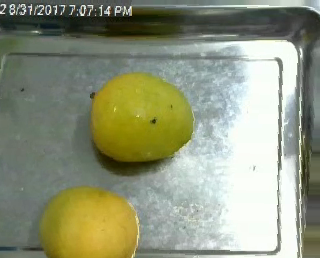Mango: (89, 74, 192, 161), (40, 186, 139, 258)
